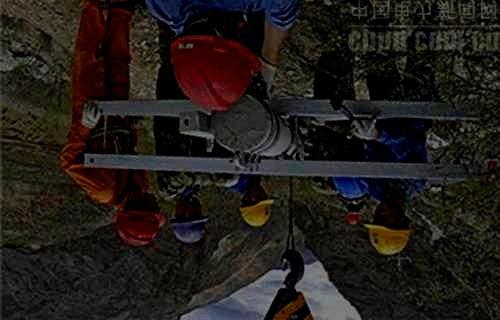helmet: (114, 190, 167, 247), (363, 201, 411, 255), (169, 196, 209, 244), (239, 186, 274, 227), (345, 203, 360, 225)
